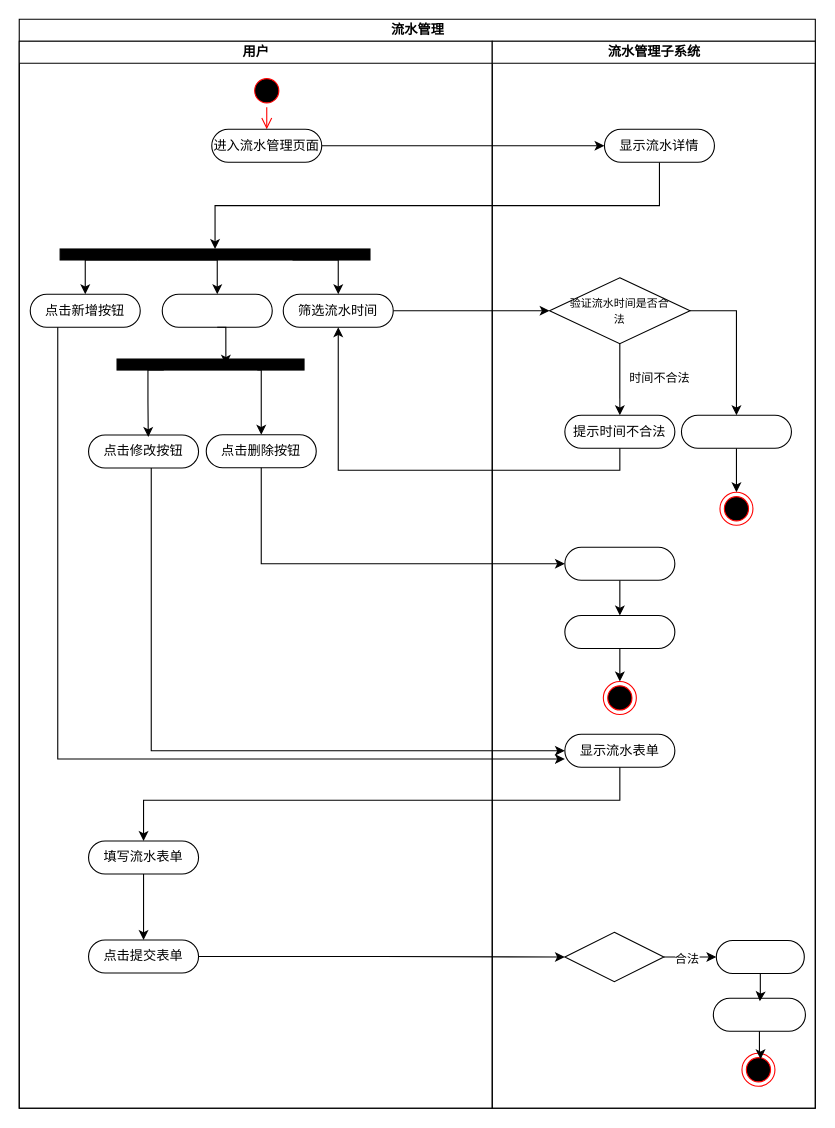
Some shapes in this 835 by 1128 pixel diagram are drawn without their labels. The centre of each missing label's shape, as x and y in pixels:
"保存新信息" belongs at point 758,1014.
"删除流水" belongs at point 619,631.
"提示流水删除" belongs at point 619,563.
"提示流水变动" belongs at point 759,956.
"显示流水信息" belongs at point 735,431.
"选中一条流水信息" belongs at point 216,310.
"验证是否合法" belongs at point 614,956.
